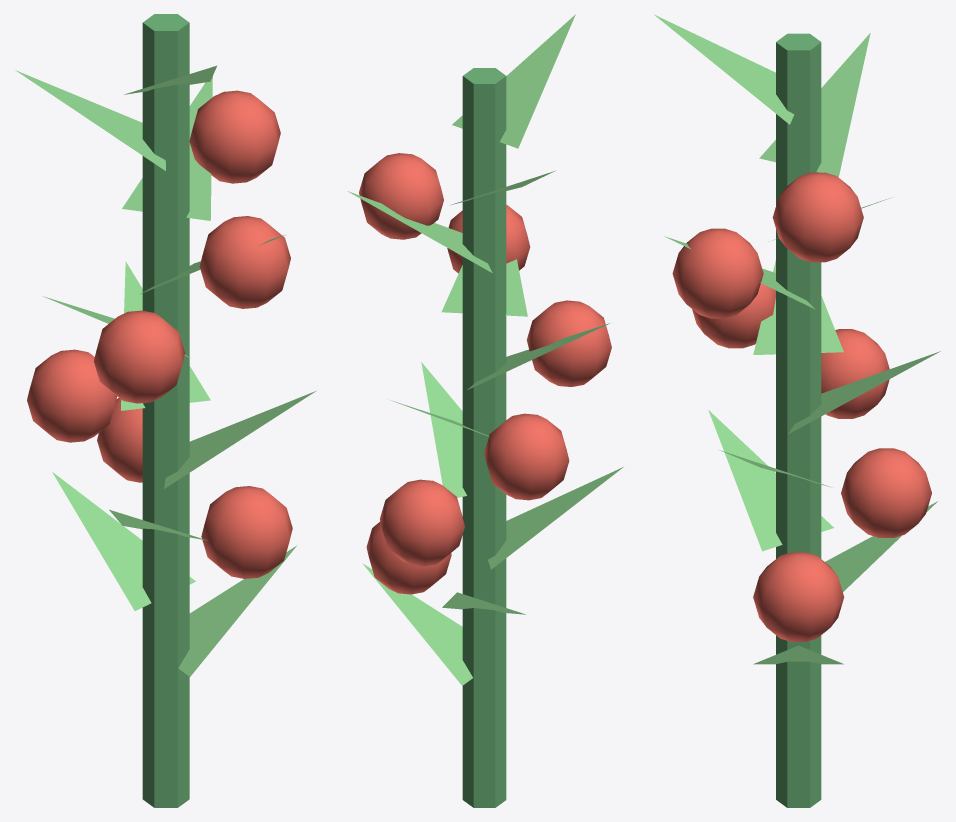
The model's file is tomato__tomato.fbx.
3 renders of one model, left to right at view 1: azimuth 30°, elevation 25°; view 2: azimuth 150°, elevation 25°; view 3: azimuth 270°, elevation 25°, orthographic. The views are drawn at different scales.
Parts seen in each view (by area): view 1: tomato__tomato; view 2: tomato__tomato; view 3: tomato__tomato.
Part boxes in pixels (bbox=[...]): tomato__tomato: bbox=[15, 14, 316, 807]; tomato__tomato: bbox=[347, 14, 623, 807]; tomato__tomato: bbox=[654, 14, 940, 807].
Bounding box in the file's own units: 0.3891 × 1.12 × 0.3803.
